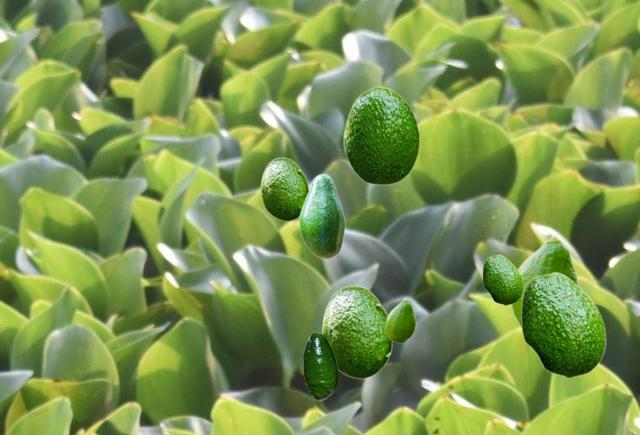avocado: (520, 271, 605, 377), (343, 86, 419, 184), (509, 232, 578, 328), (321, 285, 392, 378), (298, 173, 344, 258), (260, 157, 308, 220), (303, 332, 337, 399), (482, 254, 522, 304), (385, 297, 415, 342)
